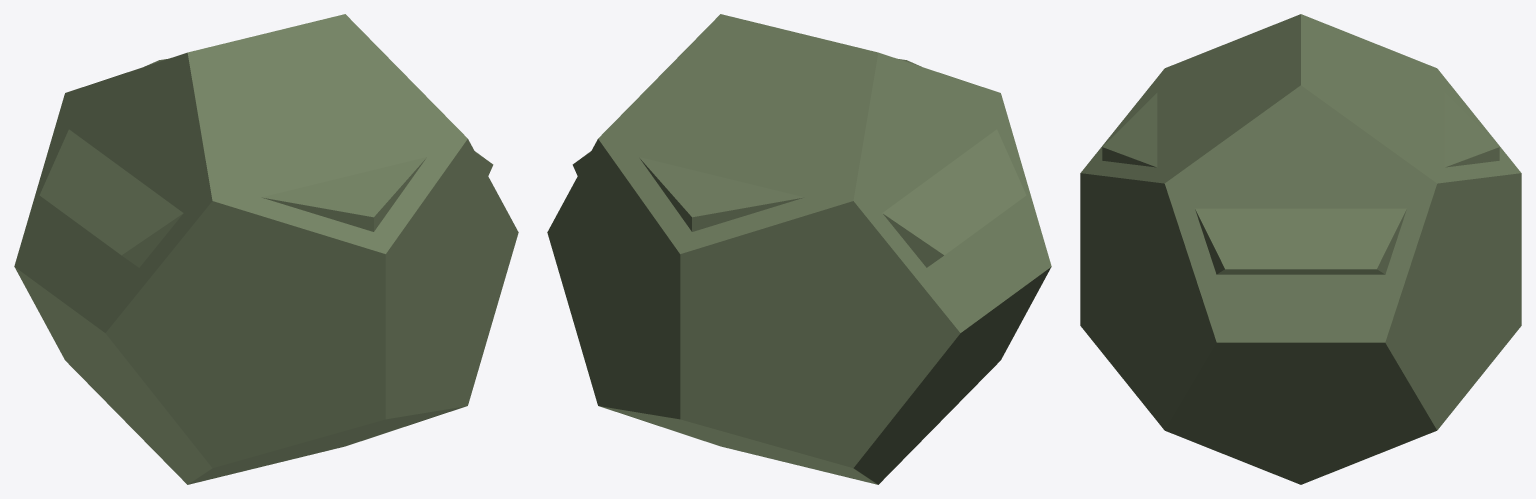
Rendered from rock.glb.
The picture shows the model from 3 angles, left to right: view 1: azimuth 30°, elevation 25°; view 2: azimuth 150°, elevation 25°; view 3: azimuth 270°, elevation 25°; orthographic projection. The views are drawn at different scales.
Visible parts, largest first — view 1: rock_LOD0; view 2: rock_LOD0; view 3: rock_LOD0.
Part boxes in pixels (box(x1,y1,x2,y2)): rock_LOD0: box(14, 14, 518, 484); rock_LOD0: box(547, 14, 1051, 484); rock_LOD0: box(1080, 14, 1521, 484).
Size of the model in its own units: 1.87 by 1.87 by 1.87.
